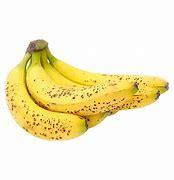banana: (0, 27, 174, 148)
